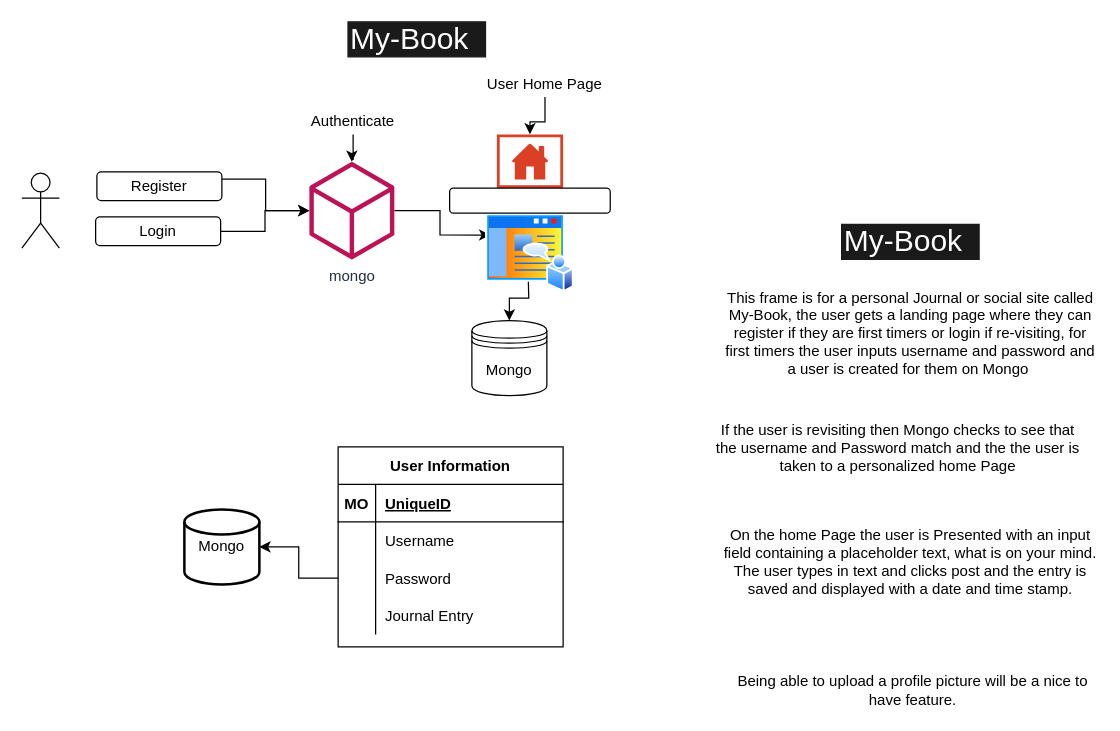
The diagram is 1120 pixels wide and 731 high, and some of its shapes have lost their labels. The shapes that lost their labels are listed below. From the top down, each one's centre as x and y in pixels, then its label:
point (40, 210): user
point (529, 200): What is on your mind?
